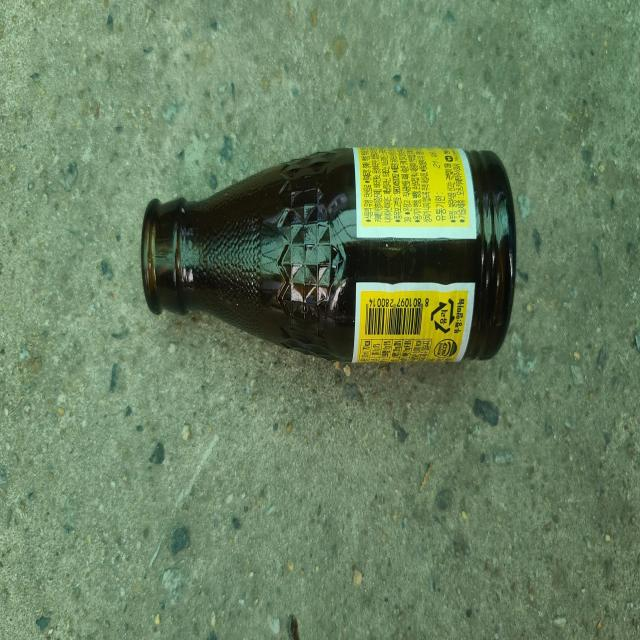glass: (141, 146, 516, 361)
